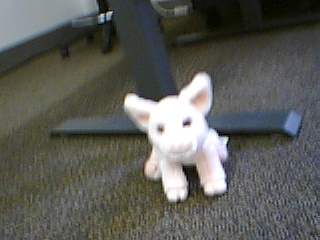piggy: (121, 70, 231, 205)
